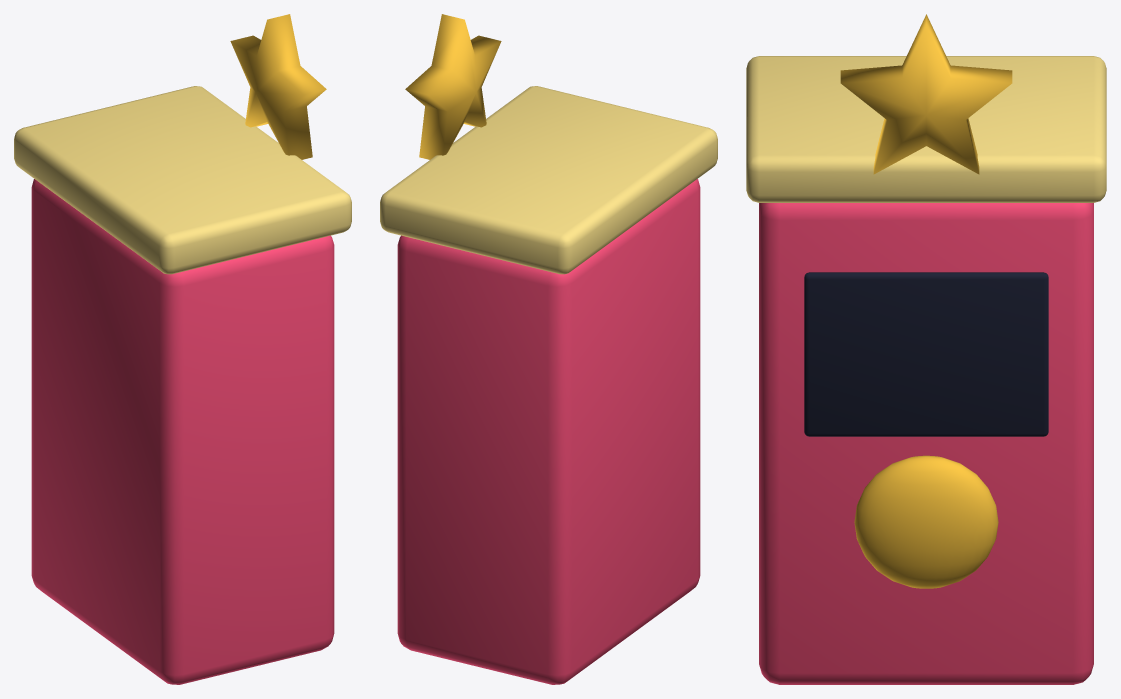
The model's file is SM_MemeMachine.fbx.
3 renders of one model, left to right at view 1: azimuth 30°, elevation 25°; view 2: azimuth 150°, elevation 25°; view 3: azimuth 270°, elevation 25°, orthographic. The views are drawn at different scales.
Parts seen in each view (by area): view 1: SM_MemeMachine; view 2: SM_MemeMachine; view 3: SM_MemeMachine.
Boxes of the visible parts, x1,y1,x2,y2 form: SM_MemeMachine: (14, 14, 351, 684); SM_MemeMachine: (380, 14, 717, 684); SM_MemeMachine: (746, 14, 1106, 684).
Size of what is drawn, in the model's own units: 1.12 by 2.9 by 1.4.
Materials: 1 (1 with a texture image).
